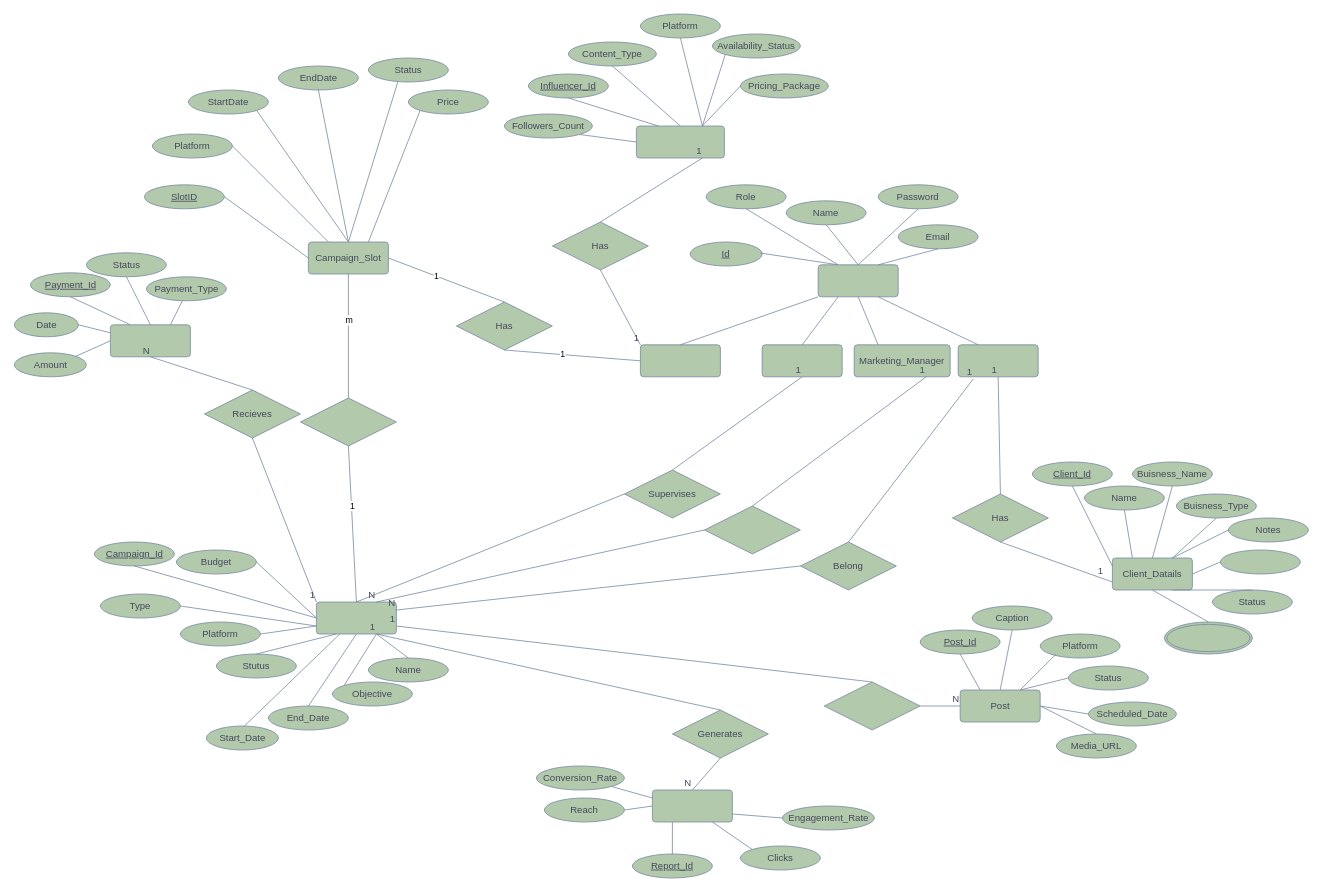
This 1322x892 diagram has some shape labels left out. The box of each missing label's shape, as (x1, y1, x2, y2) in pixels:
Address: (1220, 549, 1300, 574)
Admin: (761, 344, 842, 377)
Campaign: (316, 601, 396, 634)
Client: (957, 344, 1038, 377)
Contact_Number: (1164, 621, 1252, 654)
Creates: (704, 505, 800, 554)
Have: (300, 397, 396, 446)
Includes: (823, 681, 920, 730)
Influencer: (640, 344, 720, 377)
Influencer_Datails: (636, 125, 724, 158)
Payment: (110, 324, 190, 357)
Report: (652, 789, 732, 822)
User: (817, 264, 898, 297)
